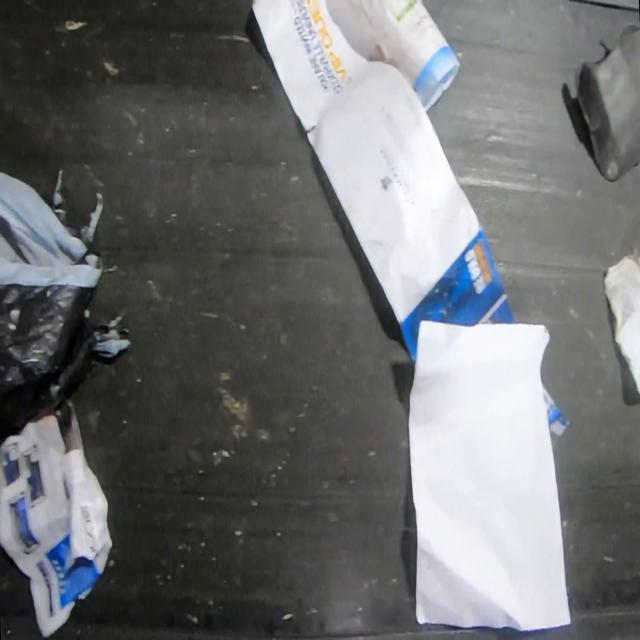rigid_plastic: (576, 23, 640, 183)
soft_plastic: (0, 172, 132, 447)
